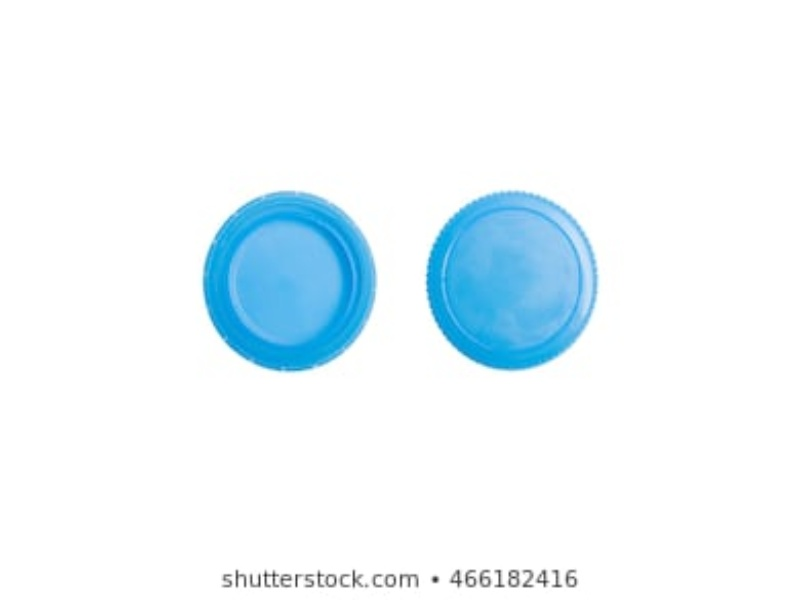bottle-cap: (200, 191, 378, 372), (422, 191, 600, 372)
